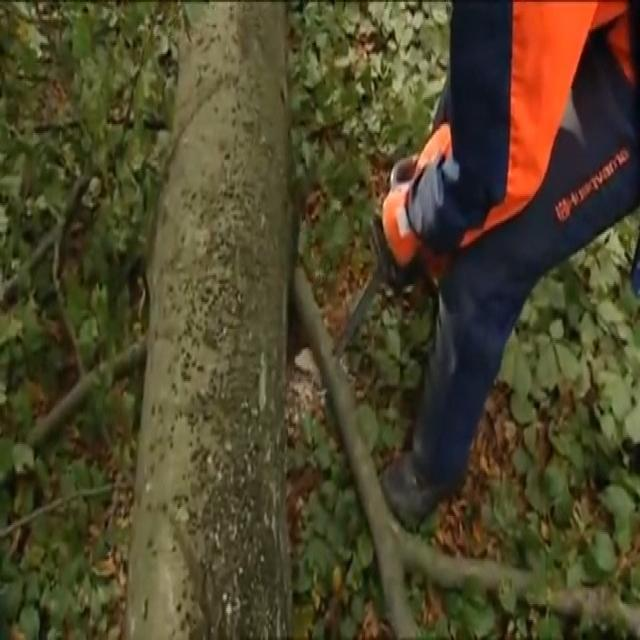Chainsaw: (320, 108, 468, 382)
